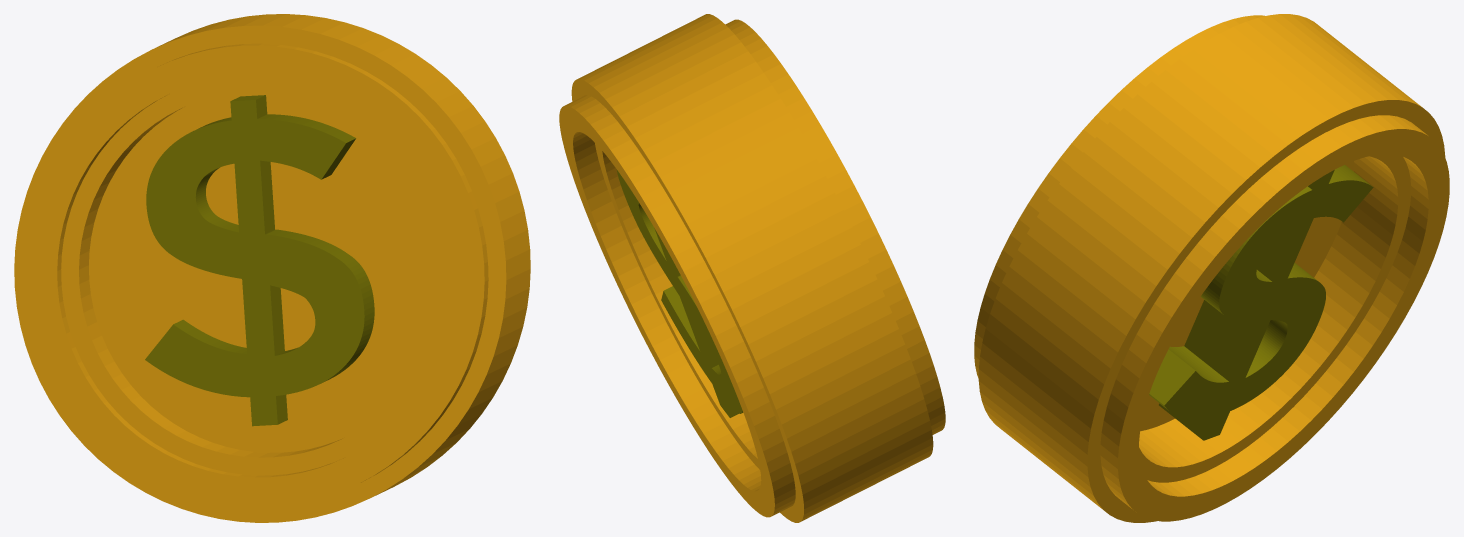
Rendered from Pièce.fbx.
3 views of the same model, side by side, from view 1: azimuth 30°, elevation 25°; view 2: azimuth 150°, elevation 25°; view 3: azimuth 270°, elevation 25° (orthographic). The views are drawn at different scales.
Parts seen in each view (by area): view 1: Cylinder, Curve; view 2: Cylinder, Curve.001; view 3: Cylinder, Curve.001.
Boxes of the visible parts, x1,y1,x2,y2 form: Cylinder: [14, 14, 530, 522]; Curve: [145, 95, 374, 426]; Cylinder: [559, 14, 945, 522]; Curve.001: [616, 169, 743, 417]; Cylinder: [974, 14, 1449, 522]; Curve.001: [1149, 165, 1373, 440].
Size of what is drawn, in the model's own units: 195 by 208 by 185.
